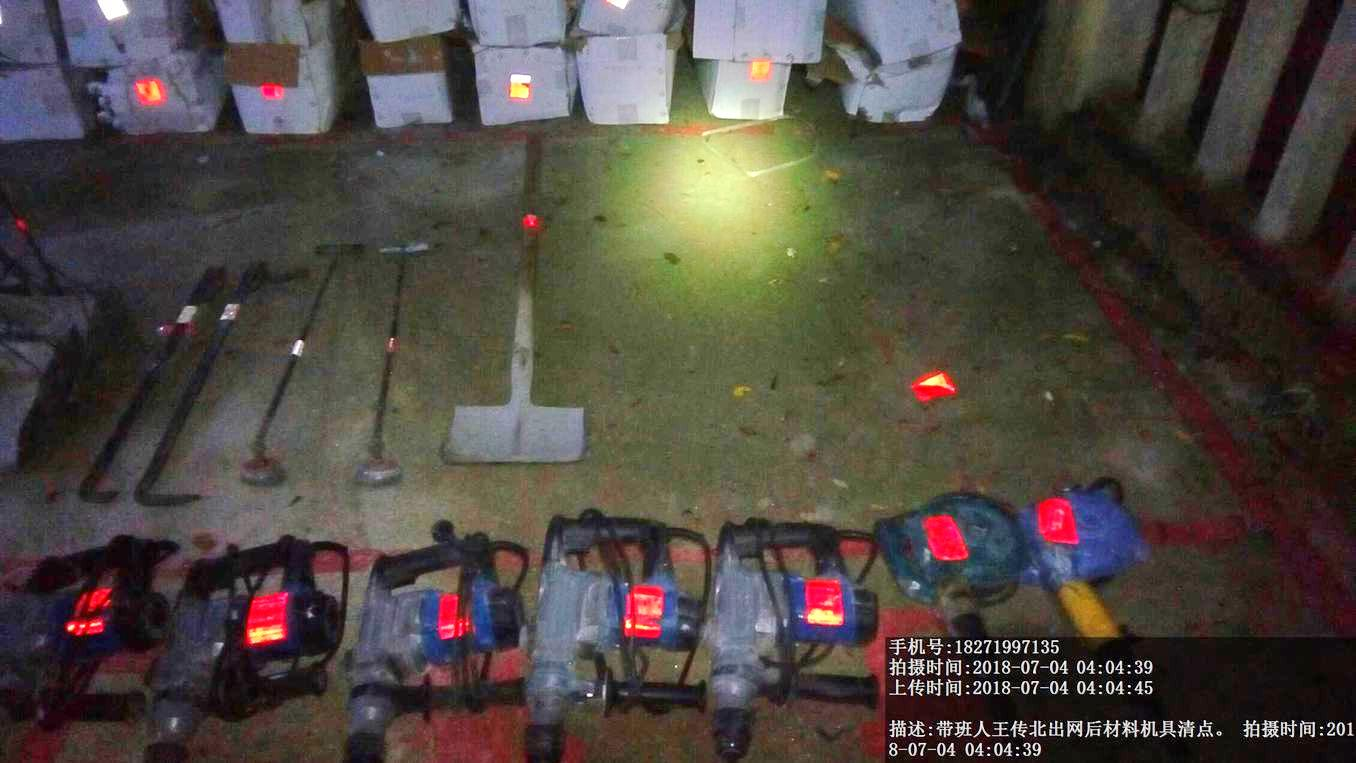DZ: (524, 506, 698, 737), (698, 500, 866, 730), (151, 545, 347, 740), (348, 531, 527, 743)
GFJ: (874, 484, 1009, 636)
TQ: (451, 134, 584, 480)
